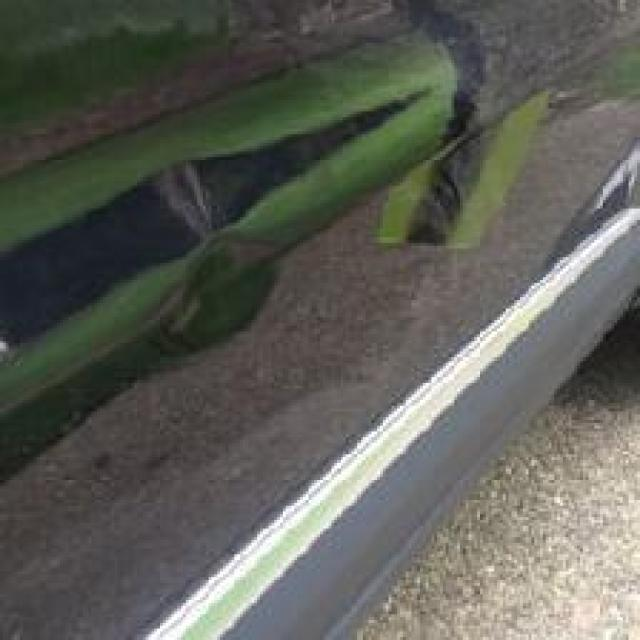damaged: (94, 137, 329, 372)
